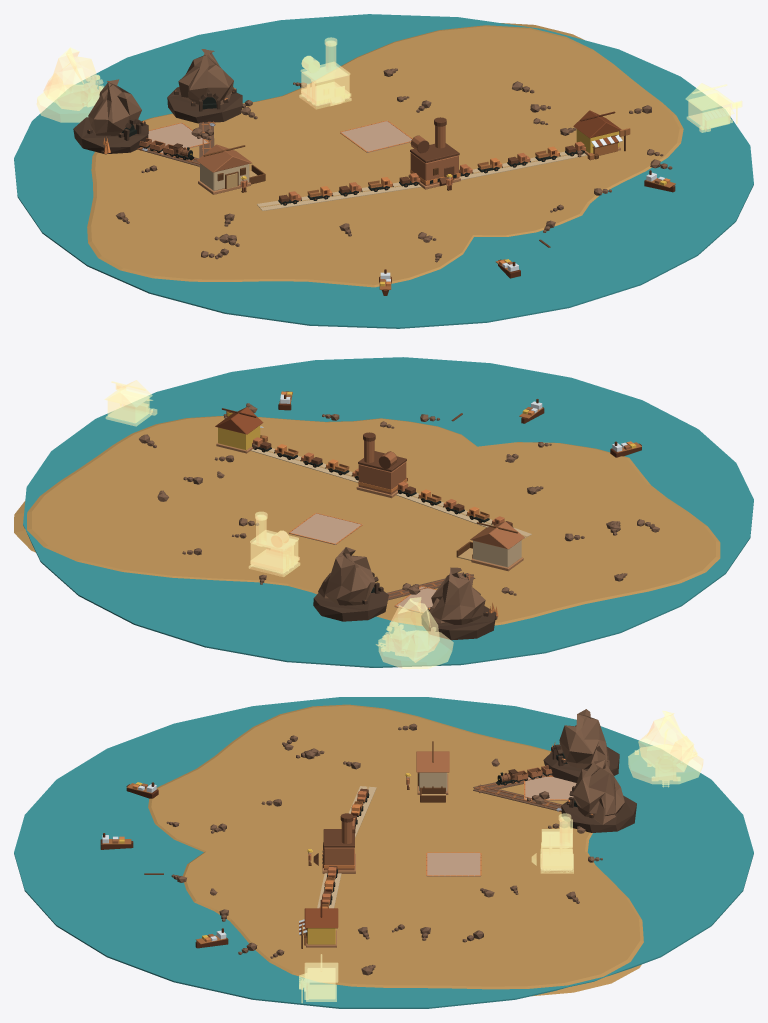
File: Island_Copper.fbx
3 renders of one model, top to bottom at view 1: azimuth 30°, elevation 25°; view 2: azimuth 150°, elevation 25°; view 3: azimuth 270°, elevation 25°, orthographic.
Parts seen in each view (by area): view 1: isle_Copper, lagoon_Copper, mine_Copper.001, mine_Copper, ghost_mine.001, ghost_refinery.001, refinery.001, storage.001, ghost_market.001, market.001, pad_expand.003, pad_expand.002 (+2 smaller); view 2: isle_Copper, lagoon_Copper, mine_Copper.001, ghost_mine.001, mine_Copper, storage.001, ghost_refinery.001, refinery.001, ghost_market.001, market.001, pad_expand.003, pad_expand.002 (+2 smaller); view 3: isle_Copper, lagoon_Copper, mine_Copper.001, ghost_mine.001, mine_Copper, ghost_refinery.001, refinery.001, storage.001, market.001, ghost_market.001, pad_expand.003, pad_expand.002.
Boxes of the visible parts, x1,y1,x2,y2 form: isle_Copper: (87, 23, 683, 287); lagoon_Copper: (14, 14, 753, 328); mine_Copper.001: (167, 49, 242, 125); mine_Copper: (73, 79, 148, 153); ghost_mine.001: (36, 47, 103, 122); ghost_refinery.001: (299, 37, 351, 109); refinery.001: (408, 117, 460, 189); storage.001: (196, 144, 265, 194); ghost_market.001: (685, 83, 742, 132); market.001: (573, 110, 630, 160); pad_expand.003: (340, 120, 412, 152); pad_expand.002: (148, 122, 209, 154); isle_Copper: (14, 416, 720, 626); lagoon_Copper: (23, 357, 753, 667); mine_Copper.001: (313, 547, 388, 621); ghost_mine.001: (376, 597, 453, 668); mine_Copper: (421, 567, 496, 640); storage.001: (456, 521, 524, 571); ghost_refinery.001: (248, 511, 300, 576); refinery.001: (356, 432, 408, 498); ghost_market.001: (104, 380, 157, 426); market.001: (215, 407, 267, 453); pad_expand.003: (289, 513, 362, 544); pad_expand.002: (394, 586, 436, 613); isle_Copper: (148, 704, 643, 996); lagoon_Copper: (14, 697, 753, 1008); mine_Copper.001: (558, 759, 636, 832); ghost_mine.001: (628, 710, 703, 787); mine_Copper: (543, 709, 619, 782); ghost_refinery.001: (531, 813, 573, 873); refinery.001: (313, 813, 355, 873); storage.001: (416, 741, 449, 802); market.001: (299, 899, 338, 948); ghost_market.001: (299, 954, 338, 1003); pad_expand.003: (426, 852, 481, 876); pad_expand.002: (524, 776, 576, 800).
Size of the model in its own units: 148 by 18.8 by 149.
